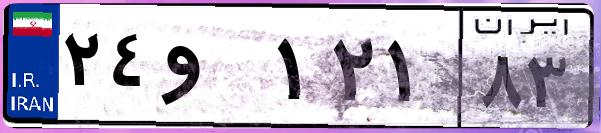1: (270, 28, 330, 110), (385, 28, 445, 110)
2: (330, 28, 385, 110), (57, 26, 110, 100)
3: (525, 38, 570, 115)
4: (110, 28, 158, 98)
8: (475, 38, 525, 113)
و: (158, 20, 270, 120)
